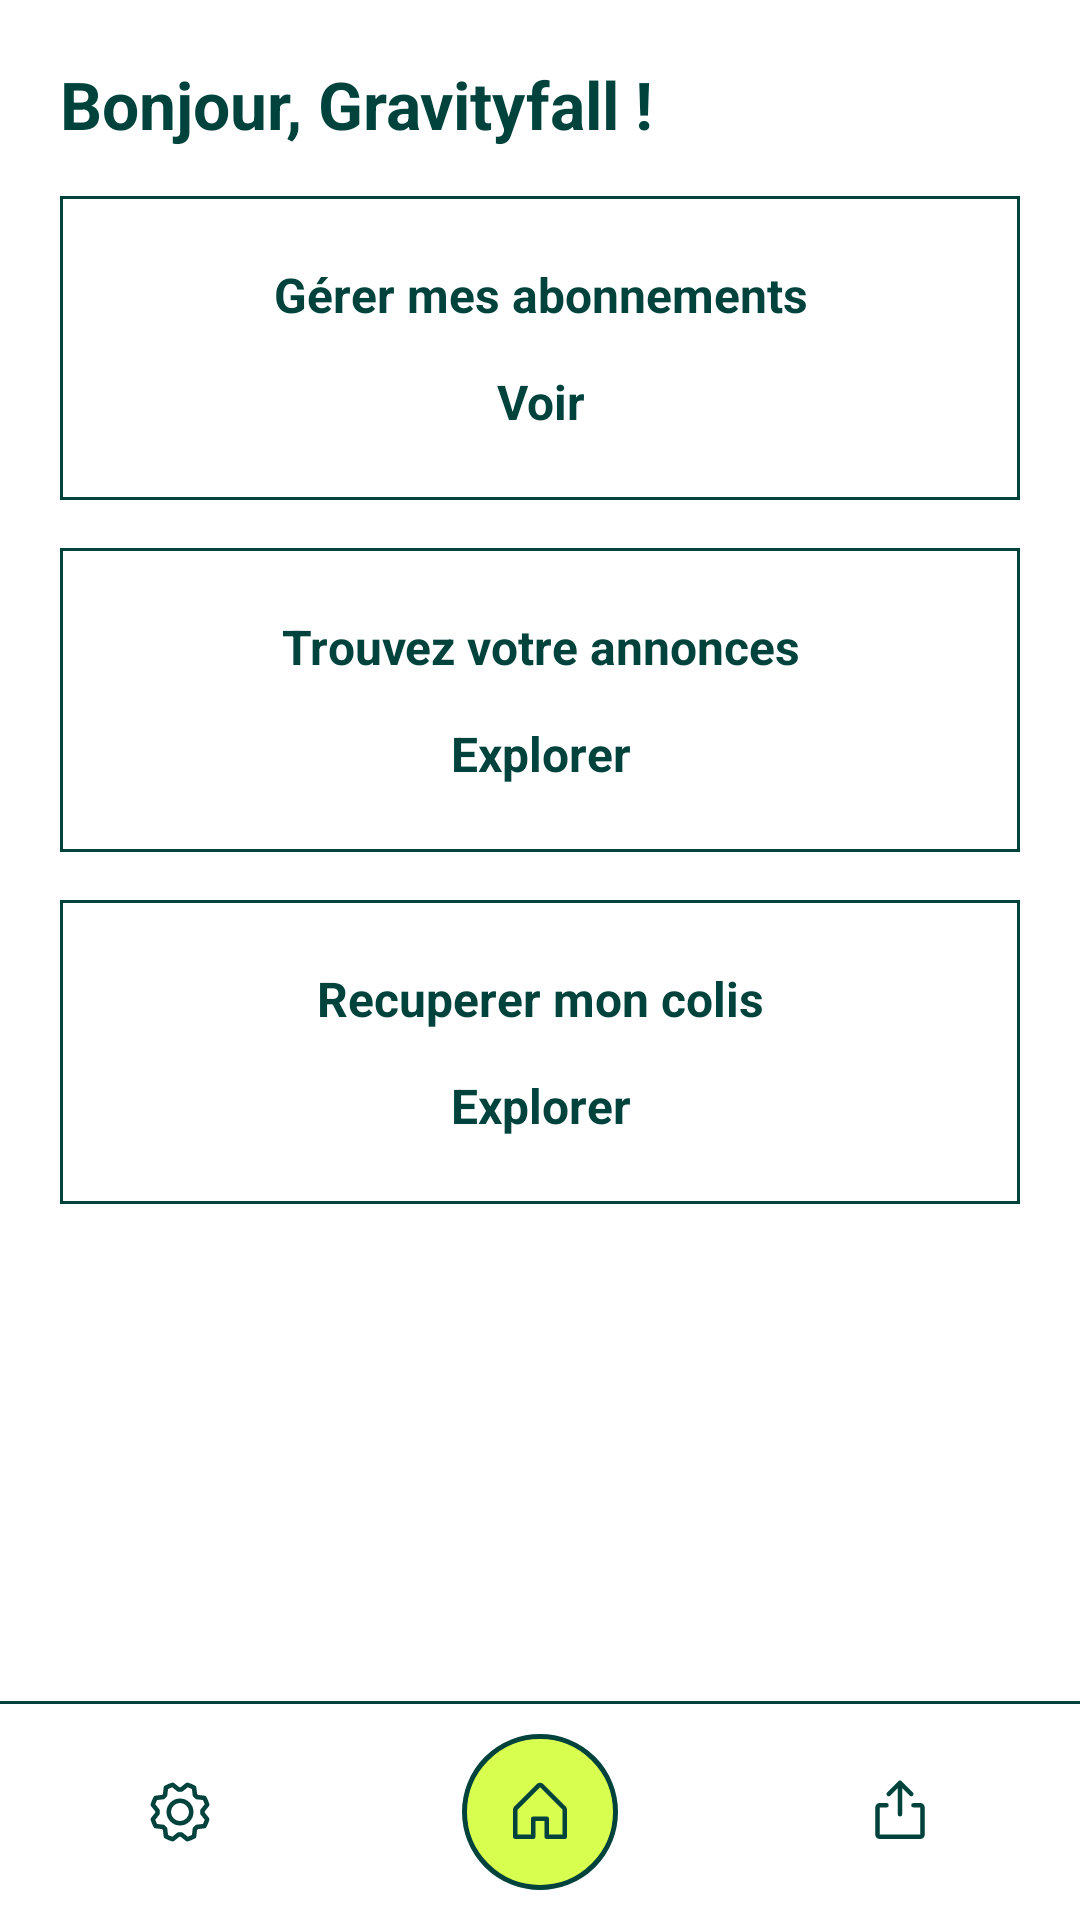

Where icons sit on this 1080×1920 app screen, as (x1, y1, x2, y2):
Accueil: (462, 1734, 618, 1890)
Paramètres: (150, 1782, 210, 1842)
Partager: (875, 1780, 925, 1839)
